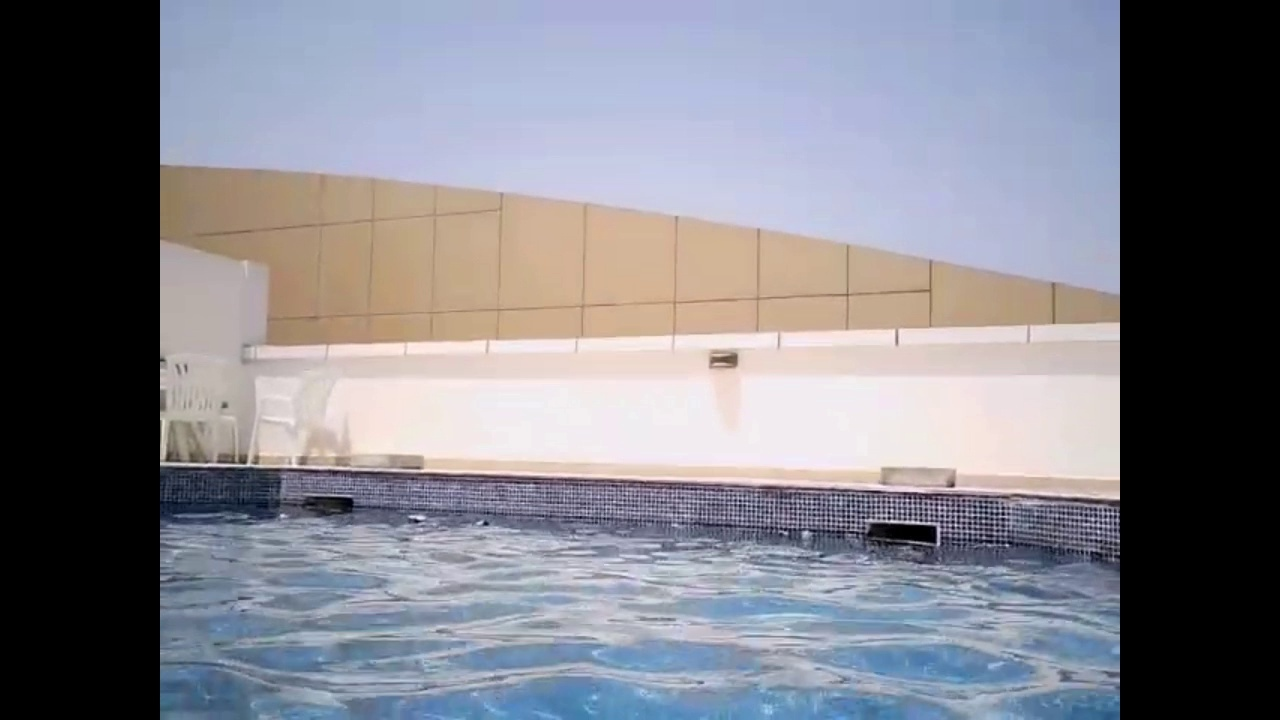debris: (405, 510, 430, 523), (470, 515, 491, 528), (797, 526, 815, 541), (276, 509, 291, 521)
